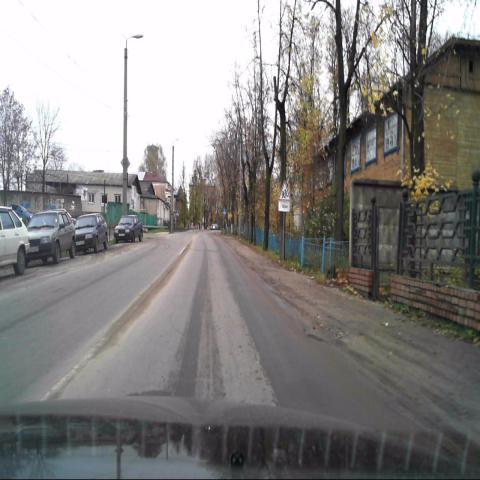1_23: (278, 180, 291, 201)
8_2_1: (278, 200, 290, 211)
